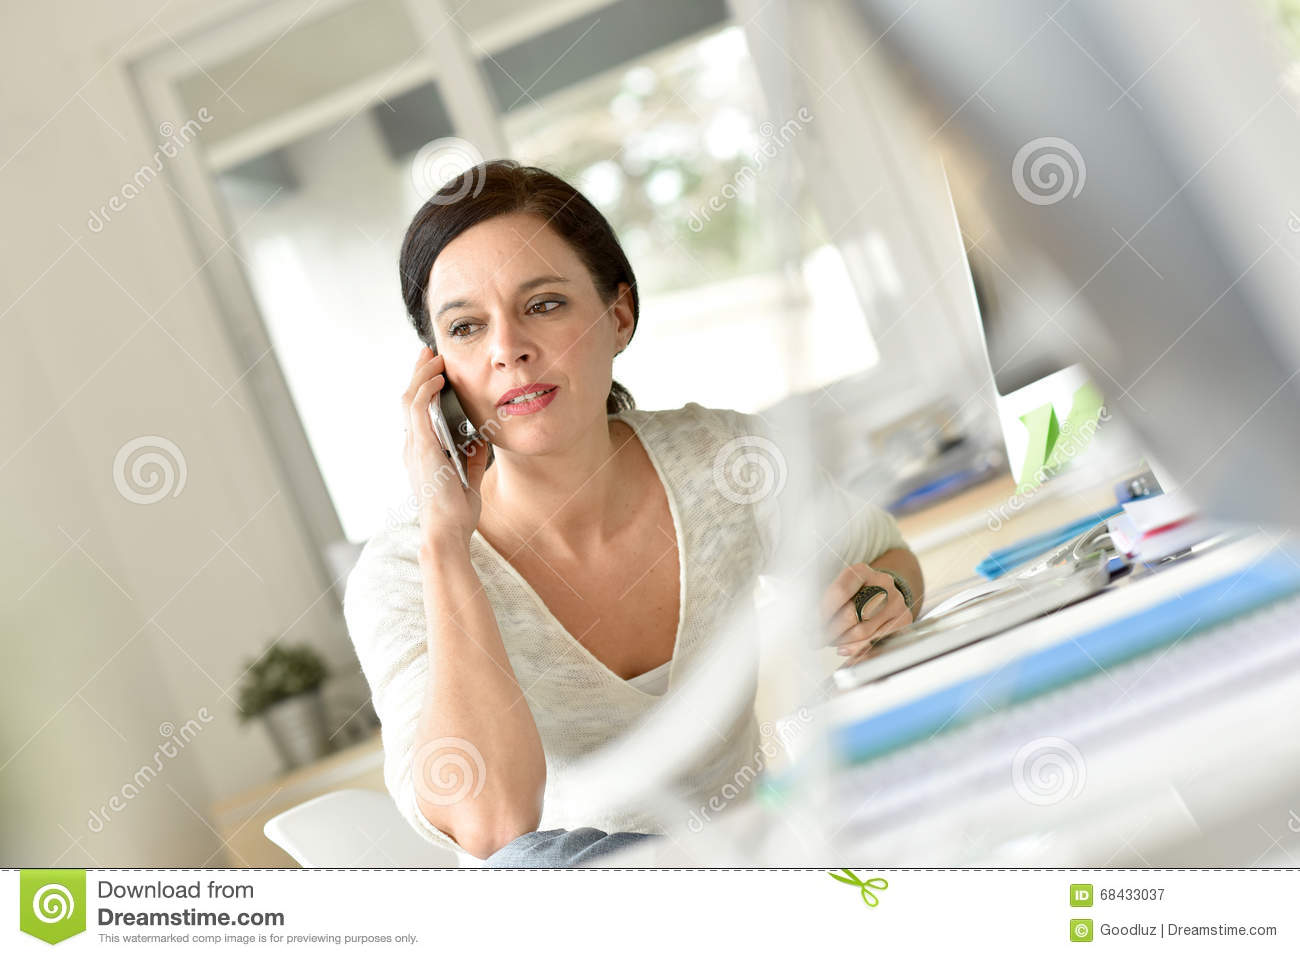phone: (422, 340, 471, 484)
talk: (398, 270, 595, 539)
